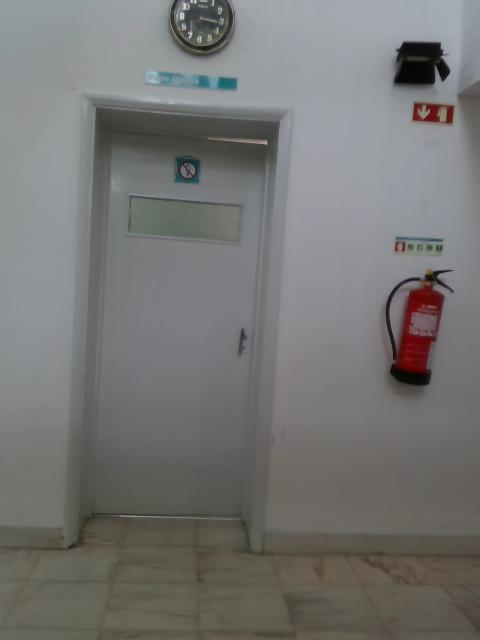door: (90, 132, 266, 516)
